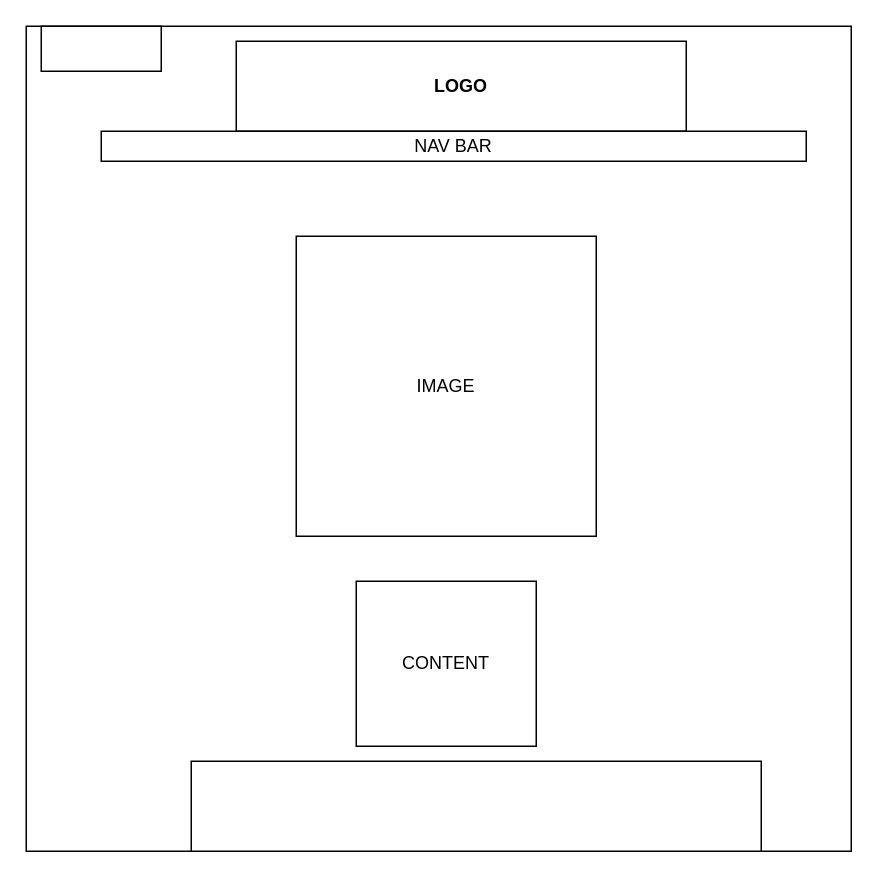
Some shapes in this 878 by 878 pixel diagram are drawn without their labels. The box of each missing label's shape, as (x1, y1, x2, y2) in pixels:
FOOTER: (190, 760, 761, 851)
HOME: (40, 25, 161, 71)
